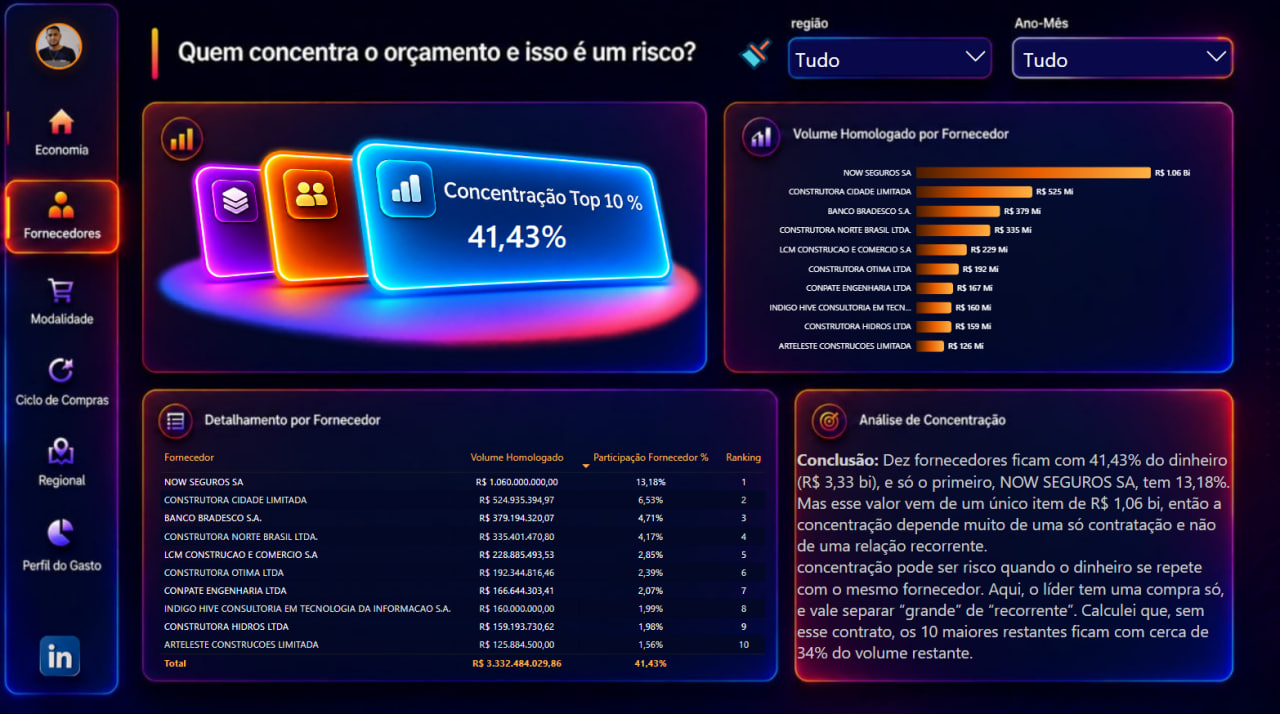

What the dashboard file says about the page in this screenshot:
{"tool":"powerbi","page":{"name":"Fornecedores","canvas":[1920,1080],"ordinal":2},"visuals":[{"type":"image","title":"cart_conce","box":[199.2,107.5,885.7,476.2],"z":0,"group":"g1"},{"type":"tableEx","fields":{"Values":["dim_fornecedor.nome_fornecedor","Medidas.P1 Volume Homologado","Medidas.P2 Participação Fornecedor %","Medidas.Ranking Exibir"]},"box":[226.7,661.7,938.3,366.7],"z":0},{"type":"cardVisual","title":"rotulo_conce","fields":{"Data":["Medidas.P2 Concentração Top 10 %"]},"box":[685.6,301.4,340.3,114.6],"z":1000,"group":"g1"},{"type":"textbox","box":[1193.1,677.8,654.2,350],"z":1000},{"type":"group","id":"g1","title":"card_concentracao","box":[199.2,107.5,885.1,476],"z":4000},{"type":"deneb7E15AEF80B9E4D4F8E12924291ECE89A","title":"Volume Homologado","fields":{"dataset":["dim_fornecedor.nome_fornecedor","Medidas.P1 Volume Homologado"]},"box":[1127.8,229.8,718.1,329.6],"z":5000},{"type":"slicer","fields":{"Values":["Calendario.Ano-Mês"]},"box":[1520.8,65.3,325,61.1],"z":6000},{"type":"slicer","title":"região","fields":{"Values":["dim_localidade.regiao"]},"box":[1180.6,65.3,305.8,69.2],"z":7000},{"type":"image","title":"Limpar Filtro forne","box":[1081,54,100,68.3],"z":8000},{"type":"shape","title":"linkedin","box":[47.2,948.6,88.9,79.2],"z":9000},{"type":"shape","title":"1_modalidade","box":[11.1,395.8,166.7,104.2],"z":10000},{"type":"shape","title":"1_ciclo","box":[11.1,523.6,166.7,106.9],"z":11000},{"type":"shape","title":"1_regional","box":[11.1,647.2,166.7,101.4],"z":12000},{"type":"shape","title":"1_perfil","box":[11.1,768.1,166.7,106.9],"z":13000},{"type":"shape","title":"1_economia","box":[11.1,151.4,166.7,106.9],"z":14000},{"type":"shape","box":[31.9,31.9,133.3,94.4],"z":15000}]}

Visuals, with their boxes in screenshot pixels (x1, y1, x2, y2), scaled from the page's 1920x1080 canvas onto the 1280x714 screenshot:
"cart_conce" image: crop(133, 71, 723, 386)
tableEx - dim_fornecedor.nome_fornecedor x Medidas.P1 Volume Homologado: crop(151, 437, 777, 680)
"rotulo_conce" cardVisual: crop(457, 199, 684, 275)
textbox: crop(795, 448, 1232, 679)
"card_concentracao" group: crop(133, 71, 723, 386)
"Volume Homologado" deneb7E15AEF80B9E4D4F8E12924291ECE89A: crop(752, 152, 1231, 370)
slicer - Calendario.Ano-Mês: crop(1014, 43, 1231, 84)
"região" slicer: crop(787, 43, 991, 89)
"Limpar Filtro forne" image: crop(721, 36, 787, 81)
"linkedin" shape: crop(31, 627, 91, 679)
"1_modalidade" shape: crop(7, 262, 119, 331)
"1_ciclo" shape: crop(7, 346, 119, 417)
"1_regional" shape: crop(7, 428, 119, 495)
"1_perfil" shape: crop(7, 508, 119, 578)
"1_economia" shape: crop(7, 100, 119, 171)
shape: crop(21, 21, 110, 83)
